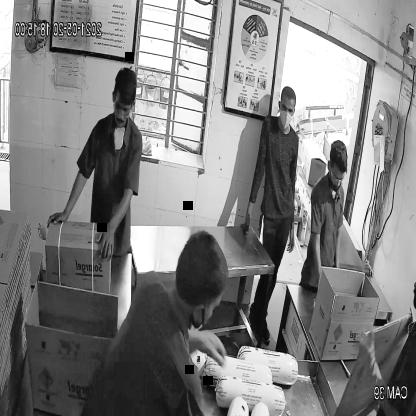goggles: (328, 167, 349, 185)
no_goggles: (277, 102, 297, 118)
